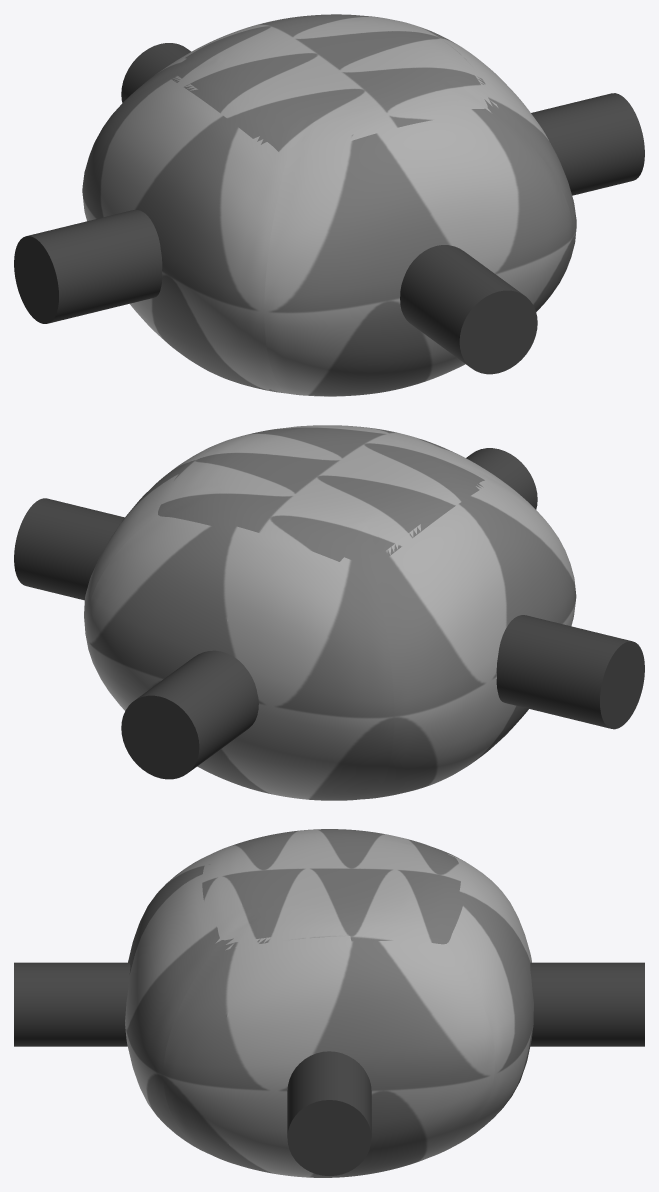
3 views of the same model, one above another, from view 1: azimuth 30°, elevation 25°; view 2: azimuth 150°, elevation 25°; view 3: azimuth 270°, elevation 25° (orthographic). The views are drawn at different scales.
Parts seen in each view (by area): view 1: Body(Compressed_Oblong)+Colour(7000000_5000000)+Pattern_18cb, Arm002, Arm004, Arm001, Arm003; view 2: Body(Compressed_Oblong)+Colour(7000000_5000000)+Pattern_18cb, Arm002, Arm003, Arm001, Arm004; view 3: Body(Compressed_Oblong)+Colour(7000000_5000000)+Pattern_18cb, Arm004, Arm003, Arm001.
Part boxes in pixels (x1,y1,x2,y2): Body(Compressed_Oblong)+Colour(7000000_5000000)+Pattern_18cb: (82, 14, 576, 396); Arm002: (14, 210, 162, 323); Arm004: (400, 245, 537, 374); Arm001: (531, 93, 644, 195); Arm003: (121, 43, 191, 102); Body(Compressed_Oblong)+Colour(7000000_5000000)+Pattern_18cb: (84, 425, 576, 800); Arm002: (496, 615, 644, 729); Arm003: (121, 650, 258, 779); Arm001: (14, 498, 124, 600); Arm004: (466, 448, 537, 509); Body(Compressed_Oblong)+Colour(7000000_5000000)+Pattern_18cb: (125, 829, 533, 1177); Arm004: (14, 962, 130, 1046); Arm003: (530, 962, 644, 1046); Arm001: (287, 1051, 371, 1175).
Size of the model in its own units: 1.52 by 0.7257 by 1.52.
Materials: 2 (2 with a texture image).
